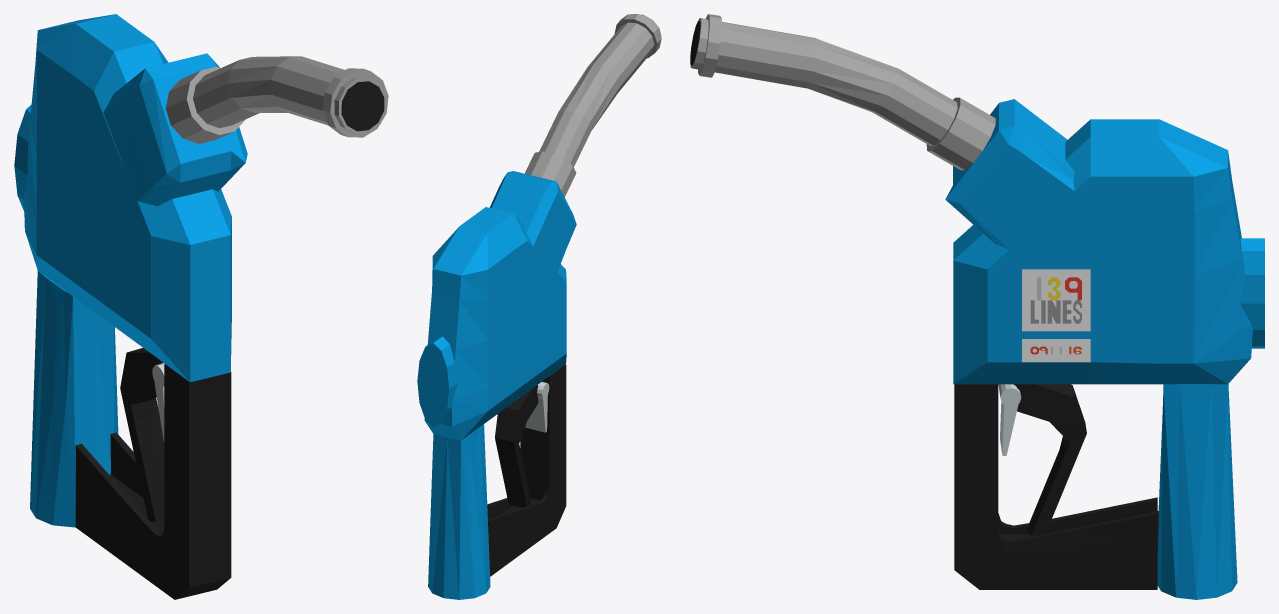
Rendered from FuelLineHead.fbx.
3 views of the same model, side by side, from view 1: azimuth 30°, elevation 25°; view 2: azimuth 150°, elevation 25°; view 3: azimuth 270°, elevation 25° (orthographic). The views are drawn at different scales.
Parts seen in each view (by area): view 1: group1831363276; view 2: group1831363276; view 3: group1831363276.
Part boxes in pixels (box(x1,y1,x2,y2)): group1831363276: box(14, 14, 388, 599); group1831363276: box(417, 14, 661, 599); group1831363276: box(690, 14, 1264, 599).
Bounding box in the file's own units: 27.34 × 203 × 186.
